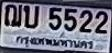letters: (4, 4, 22, 28), (23, 4, 40, 29), (94, 10, 109, 35), (48, 7, 63, 31), (79, 9, 93, 34), (63, 8, 78, 31)
province: (16, 35, 94, 50)
